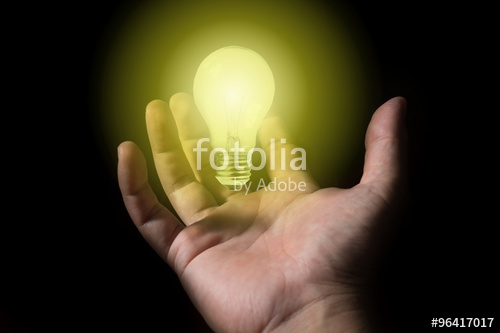finger: (143, 97, 211, 219), (110, 135, 183, 241), (167, 89, 216, 199)
